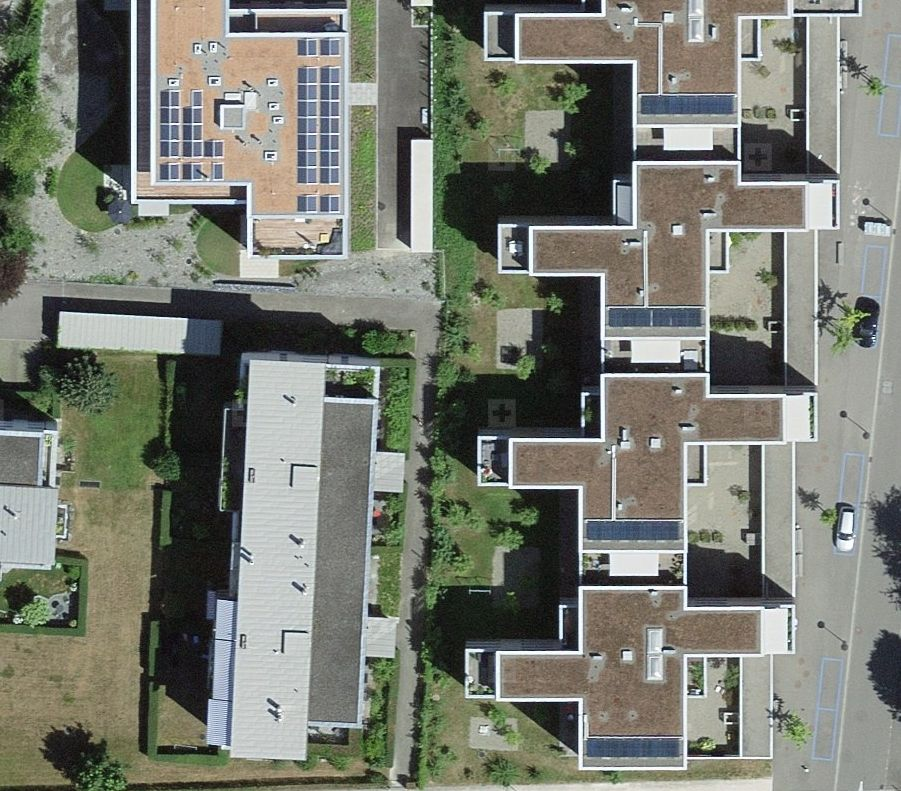solar: (294, 34, 343, 218), (156, 89, 229, 184), (602, 300, 708, 339), (577, 516, 689, 552), (577, 732, 687, 767), (634, 91, 739, 121)
